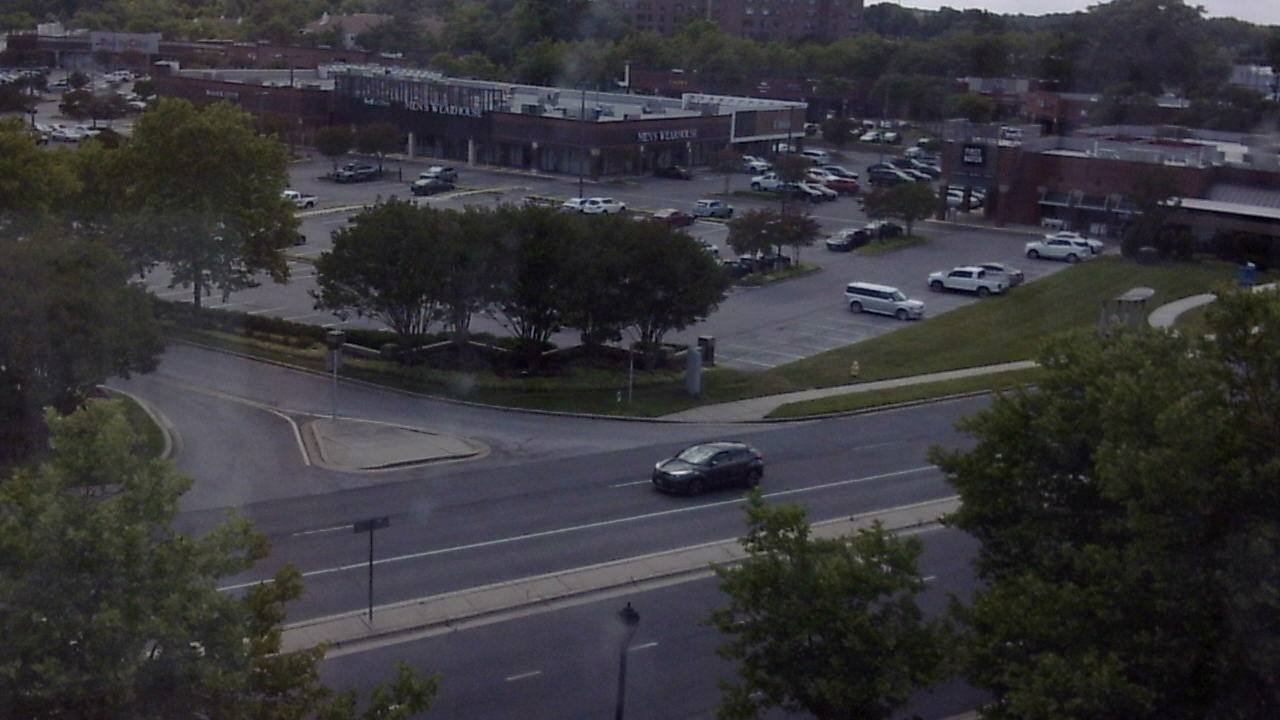Car: (650, 437, 779, 506)
